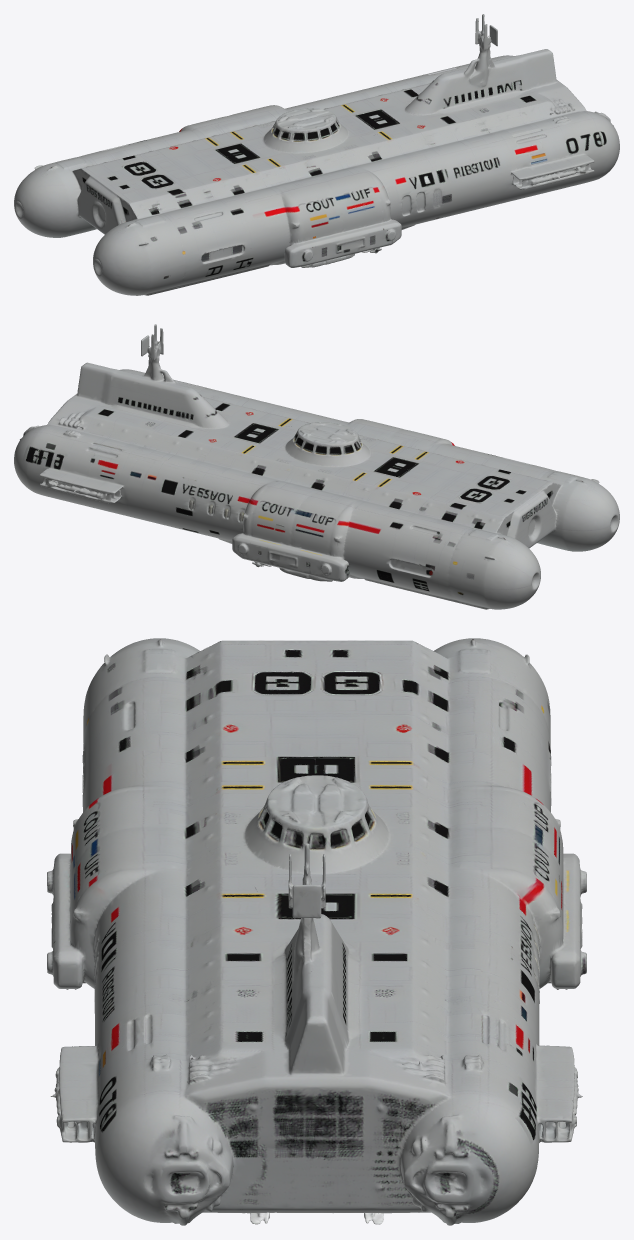
The model's file is friendlyfueltanker.glb.
3 renders of one model, top to bottom at view 1: azimuth 30°, elevation 25°; view 2: azimuth 150°, elevation 25°; view 3: azimuth 270°, elevation 25°, orthographic. The views are drawn at different scales.
Size of the model in its own units: 1.9 by 0.5812 by 0.856.
1 material, 1 textured.
